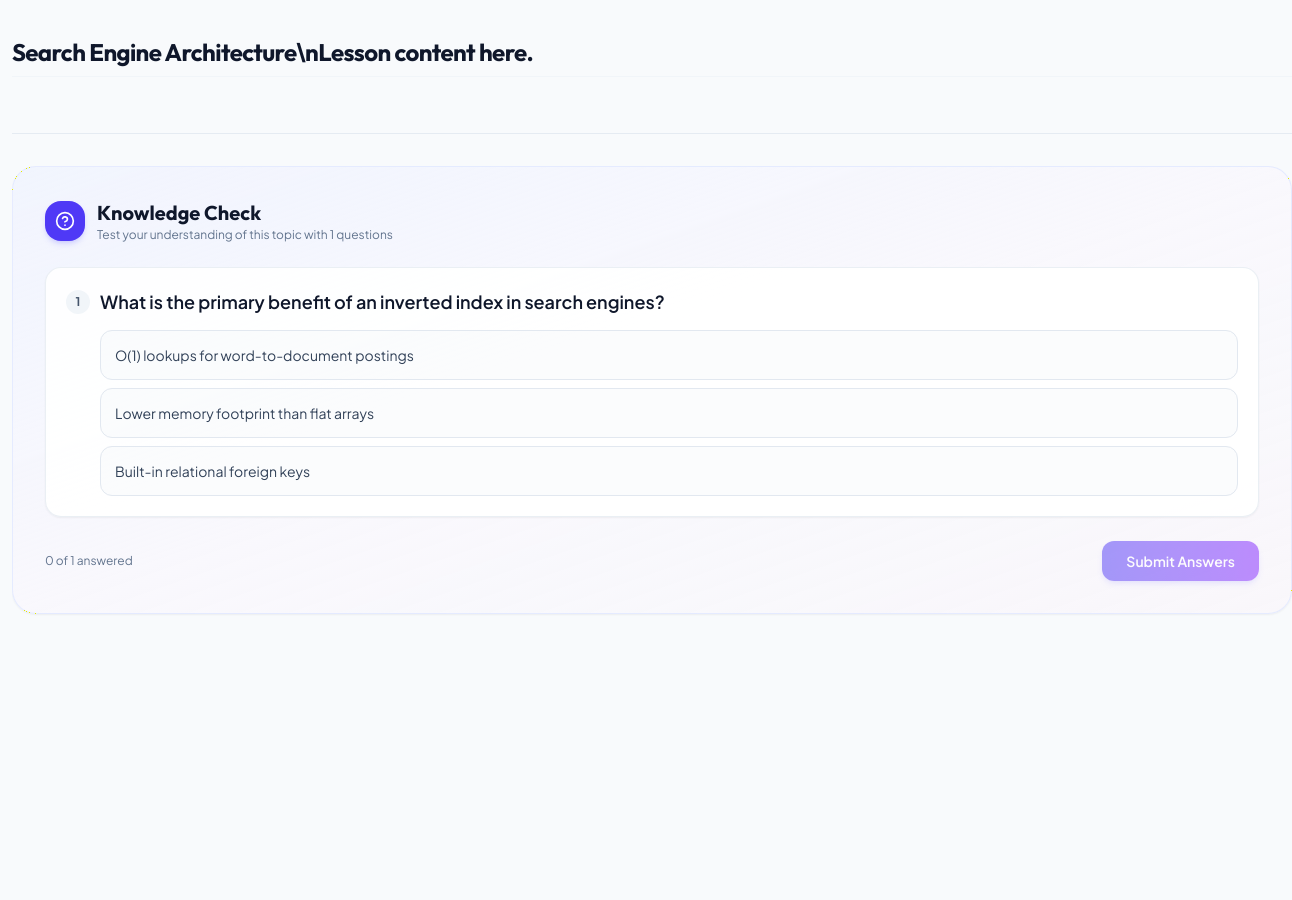
Test case: MarkdownRenderer component › Interactive Quiz Assessment › renders quiz questions, enables answer selection, and checks score
This screenshot has width=1292, height=900.
Expected: the text "What is the primary benefit of an inverted index" is shown, [100,290,665,313]
Click the button "O(1) lookups for word-to-document postings". click: (264, 355)
box: [100,330,1238,380]
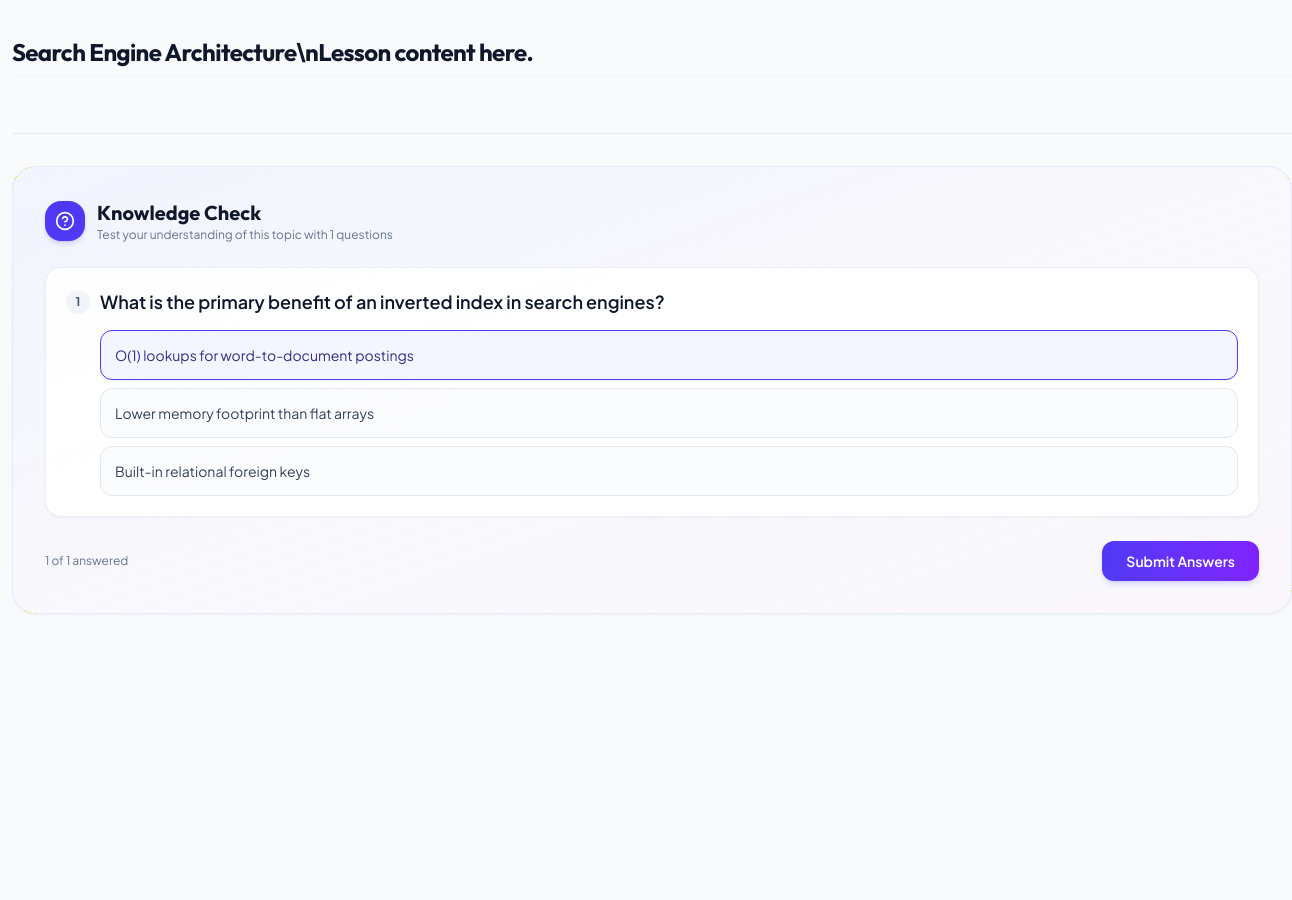
Click the button "Submit Answers". click: (1181, 561)
box: [1102,541,1259,581]
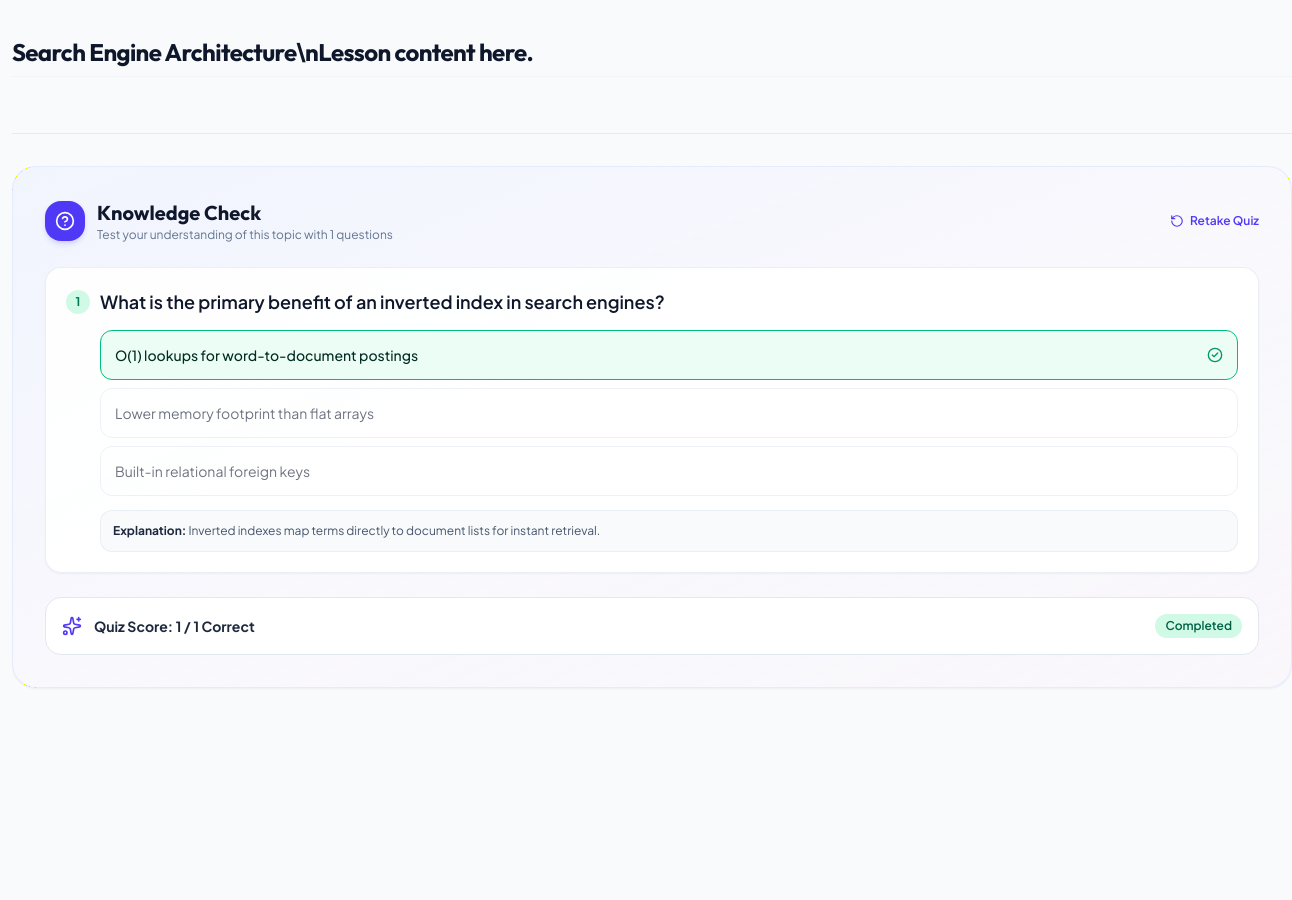
Result: the text "Inverted indexes map terms directly" is shown at [188,523,600,538]
Result: the text "Quiz Score: 1 / 1 Correct" is shown at [94,616,255,636]
